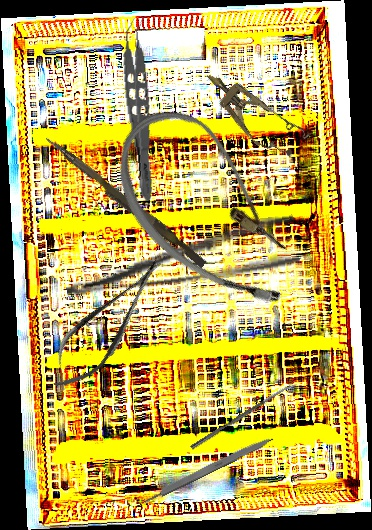Cannula: (85, 89, 336, 329)
Dressing Forceps: (60, 213, 301, 301)
Micro Scissor: (35, 246, 180, 402)
Pusher: (40, 135, 210, 269)
Scalpel Handle: (141, 432, 275, 506)
Speculum: (194, 58, 312, 168)
Surgical Spoon: (190, 380, 297, 451)
Tissue Forceps: (115, 16, 170, 203)
